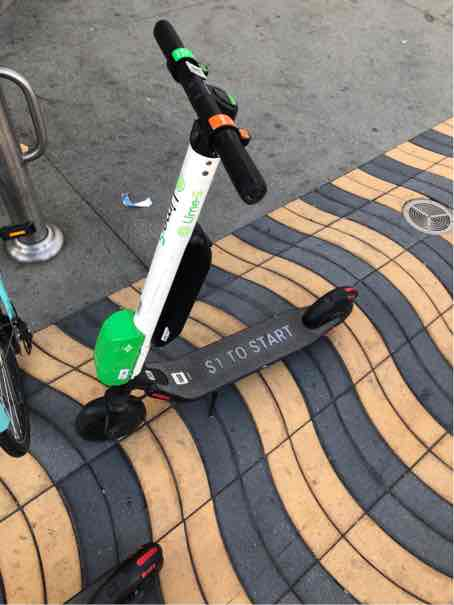scooter: (73, 11, 378, 482)
